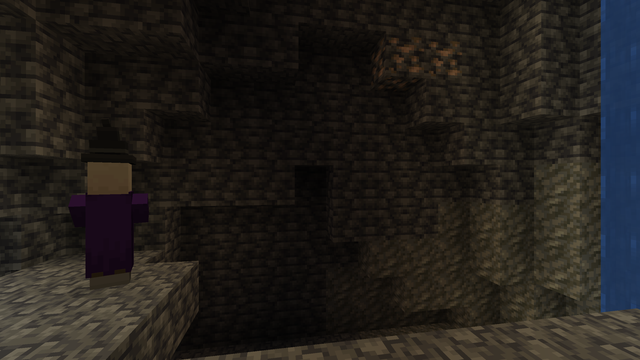sorcieres: (74, 156, 142, 293)
